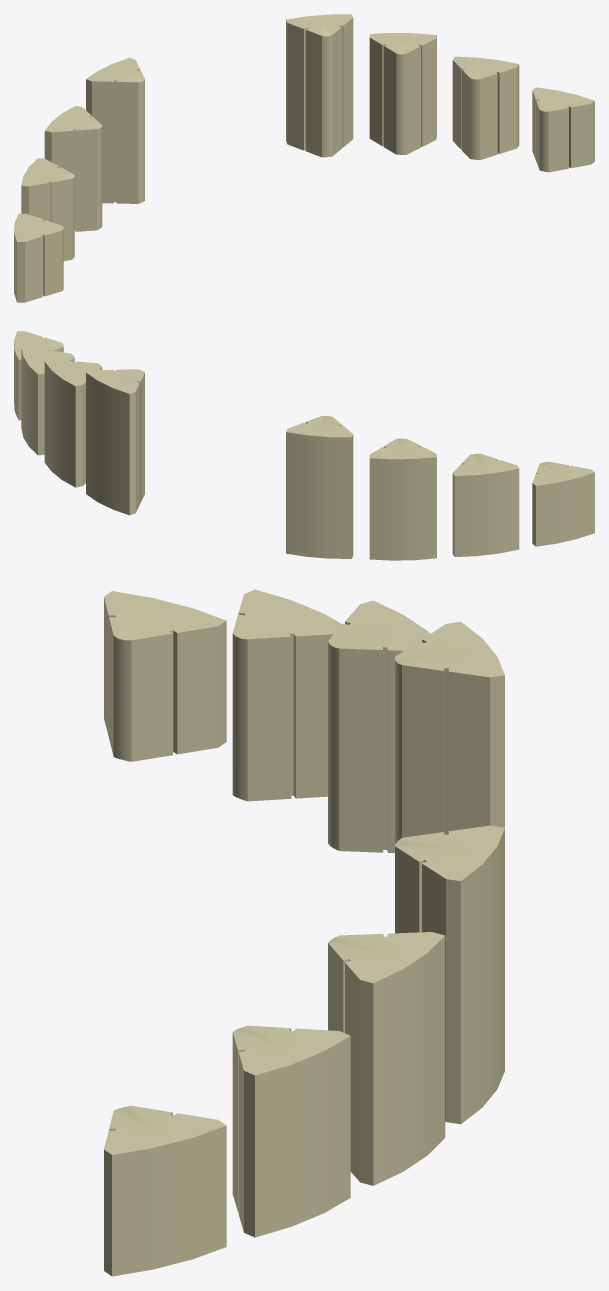
The model's file is VS5_MainRoomColumns.FBX.
3 renders of one model, top to bottom at view 1: azimuth 30°, elevation 25°; view 2: azimuth 150°, elevation 25°; view 3: azimuth 270°, elevation 25°, orthographic. The views are drawn at different scales.
Parts seen in each view (by area): view 1: VS5_MainRoom_Columns; view 2: VS5_MainRoom_Columns; view 3: VS5_MainRoom_Columns.
Boxes of the visible parts, x1,y1,x2,y2 form: VS5_MainRoom_Columns: (14, 14, 594, 302); VS5_MainRoom_Columns: (14, 331, 594, 560); VS5_MainRoom_Columns: (104, 589, 504, 1276).
Size of the model in its own units: 882 by 177 by 265.
